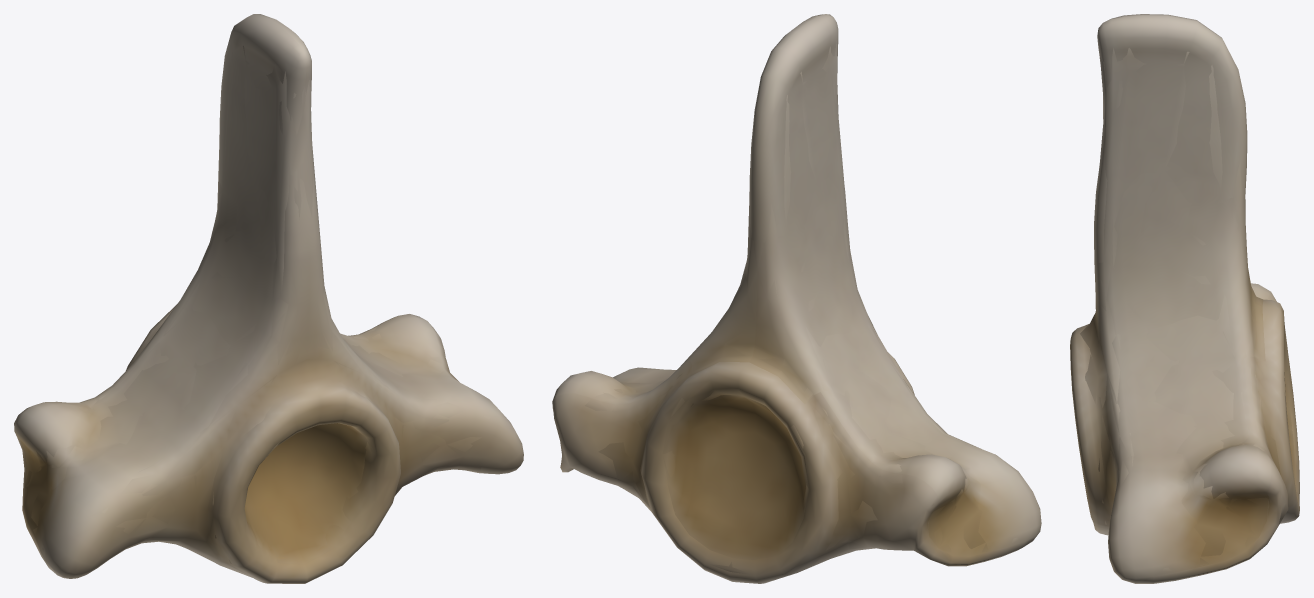
Rendered from vertebrae thoracicae 13.fbx.
3 views of the same model, side by side, from view 1: azimuth 30°, elevation 25°; view 2: azimuth 150°, elevation 25°; view 3: azimuth 270°, elevation 25° (orthographic). The views are drawn at different scales.
Parts seen in each view (by area): view 1: vertebrae thoracicae 13, vertebrae thoracicae 13 low; view 2: vertebrae thoracicae 13, vertebrae thoracicae 13 low; view 3: vertebrae thoracicae 13, vertebrae thoracicae 13 low.
Part boxes in pixels (bbox=[...]): vertebrae thoracicae 13: bbox=[14, 14, 523, 583]; vertebrae thoracicae 13 low: bbox=[22, 45, 490, 564]; vertebrae thoracicae 13: bbox=[552, 14, 1041, 583]; vertebrae thoracicae 13 low: bbox=[585, 41, 1018, 574]; vertebrae thoracicae 13: bbox=[1070, 14, 1299, 583]; vertebrae thoracicae 13 low: bbox=[1080, 48, 1299, 571].
Size of the model in its own units: 5.54 by 6.17 by 2.51.
Materials: 1 (1 with a texture image).
